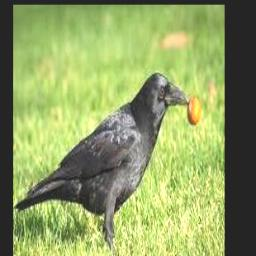Crow: (14, 71, 190, 250)
